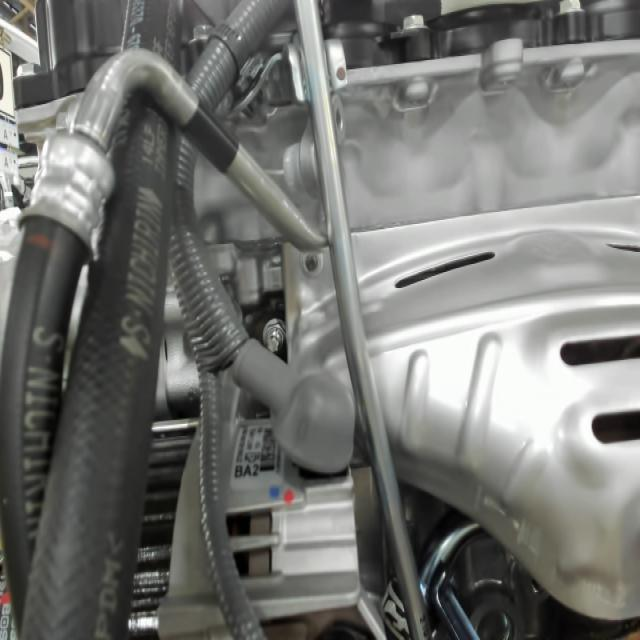Alternator-BA2: (226, 447, 278, 484)
Hose Discharge-HT: (174, 92, 247, 178)
